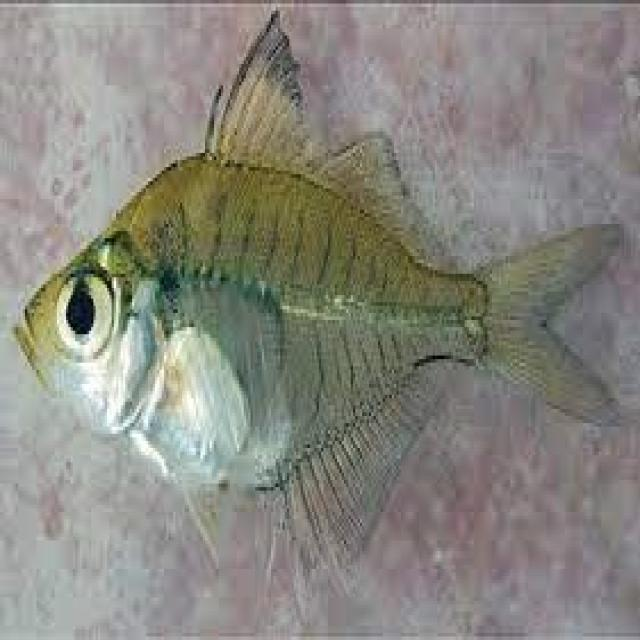Glass-Perchlet: (0, 15, 626, 582)
